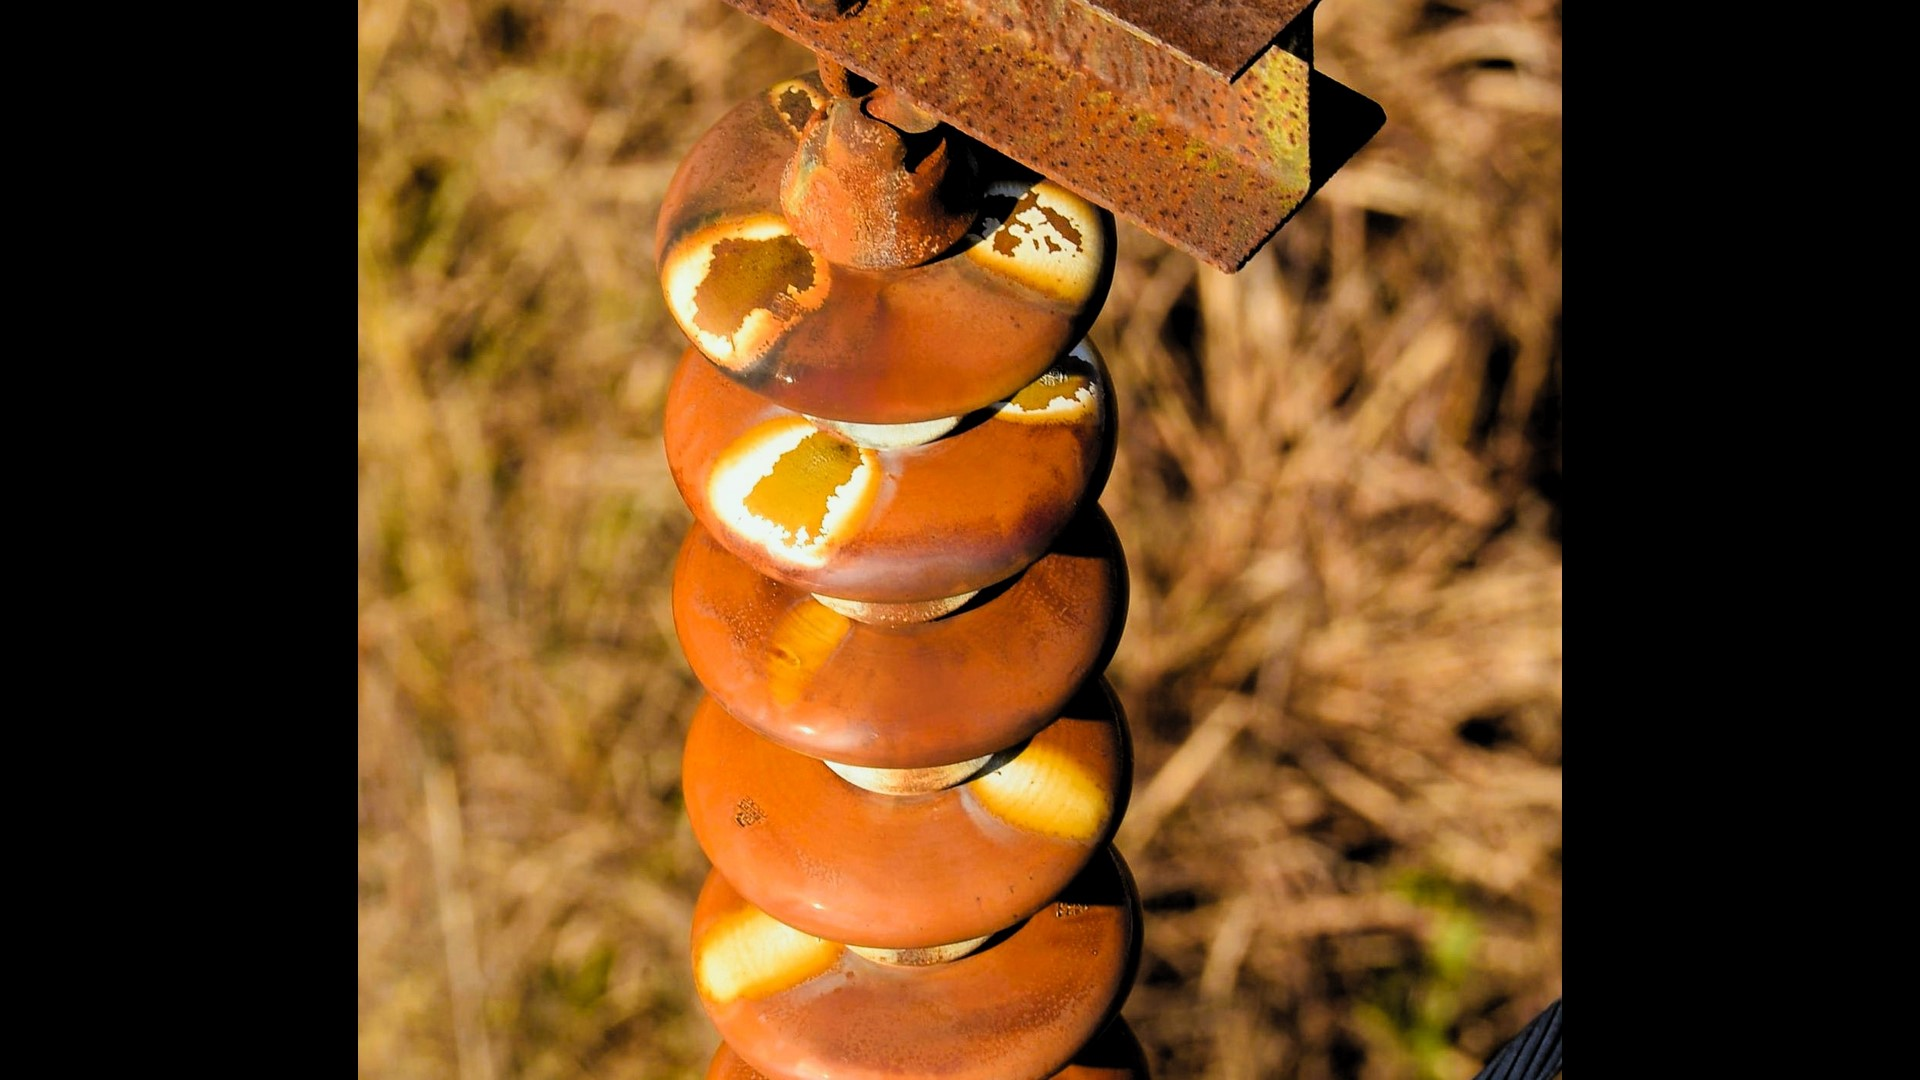Insulator flashover: (646, 703, 1174, 1076), (640, 61, 1130, 442)
